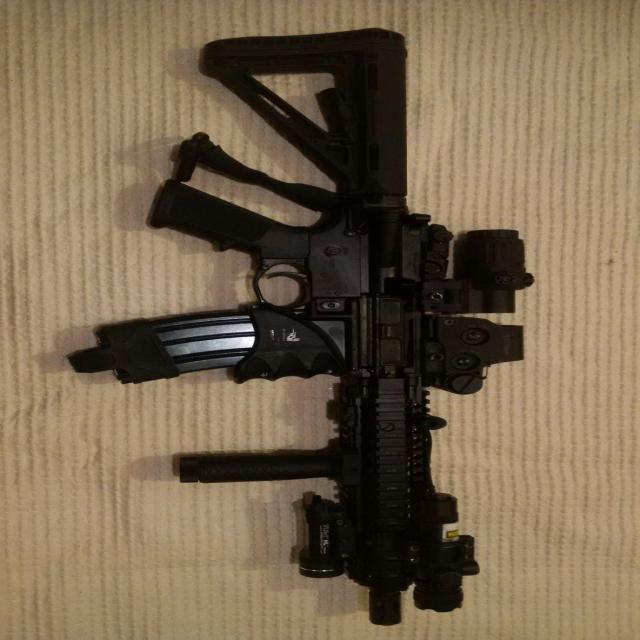rifle: (68, 29, 533, 624)
